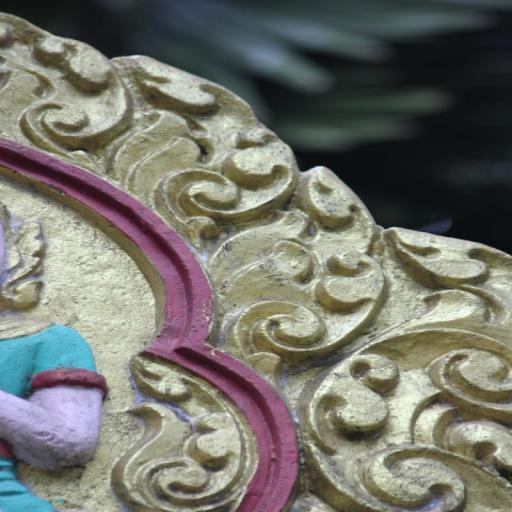lua: (330, 220, 512, 512), (228, 164, 392, 346), (112, 50, 288, 217), (0, 12, 120, 150), (133, 373, 250, 512)
than: (0, 229, 116, 512)
